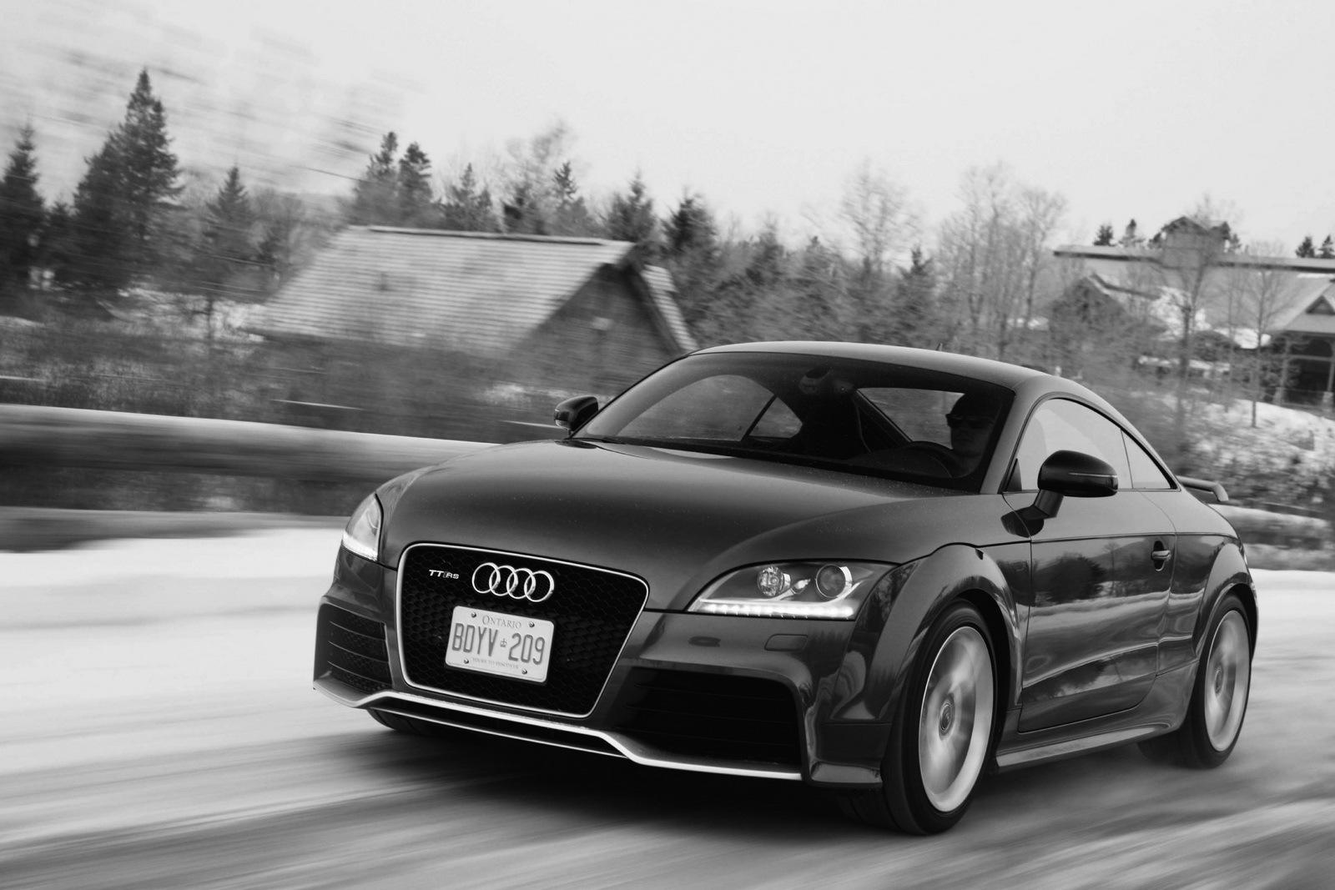car: (305, 334, 1265, 844)
